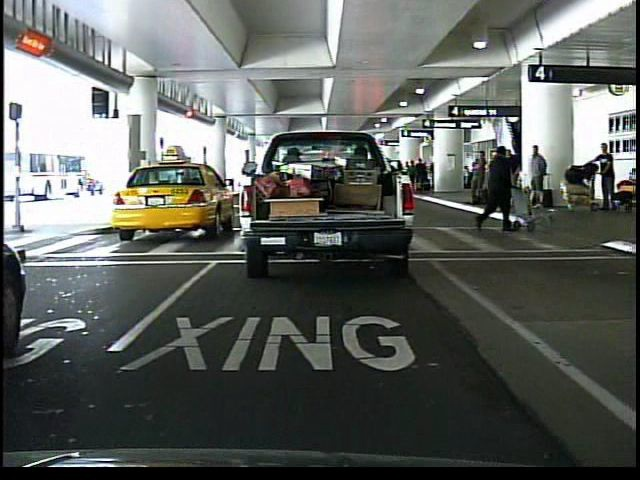person: (478, 144, 520, 236), (595, 139, 620, 215), (487, 146, 509, 223)
